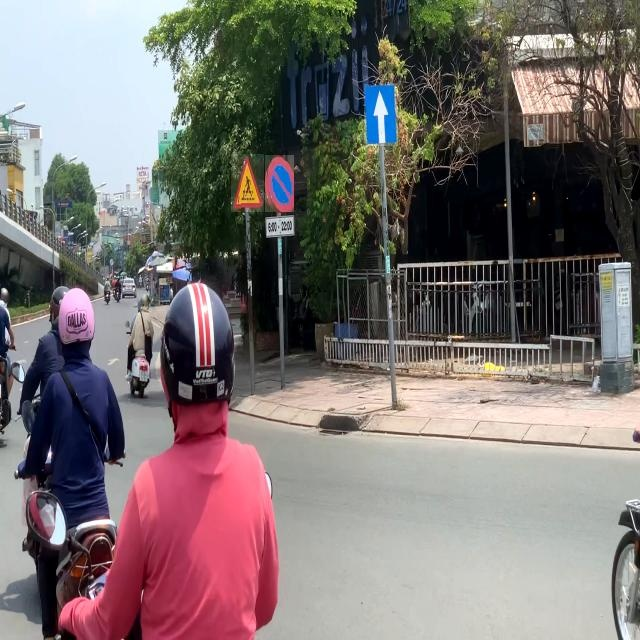bien_cam: (364, 84, 398, 146), (231, 154, 264, 212), (265, 155, 294, 212)
